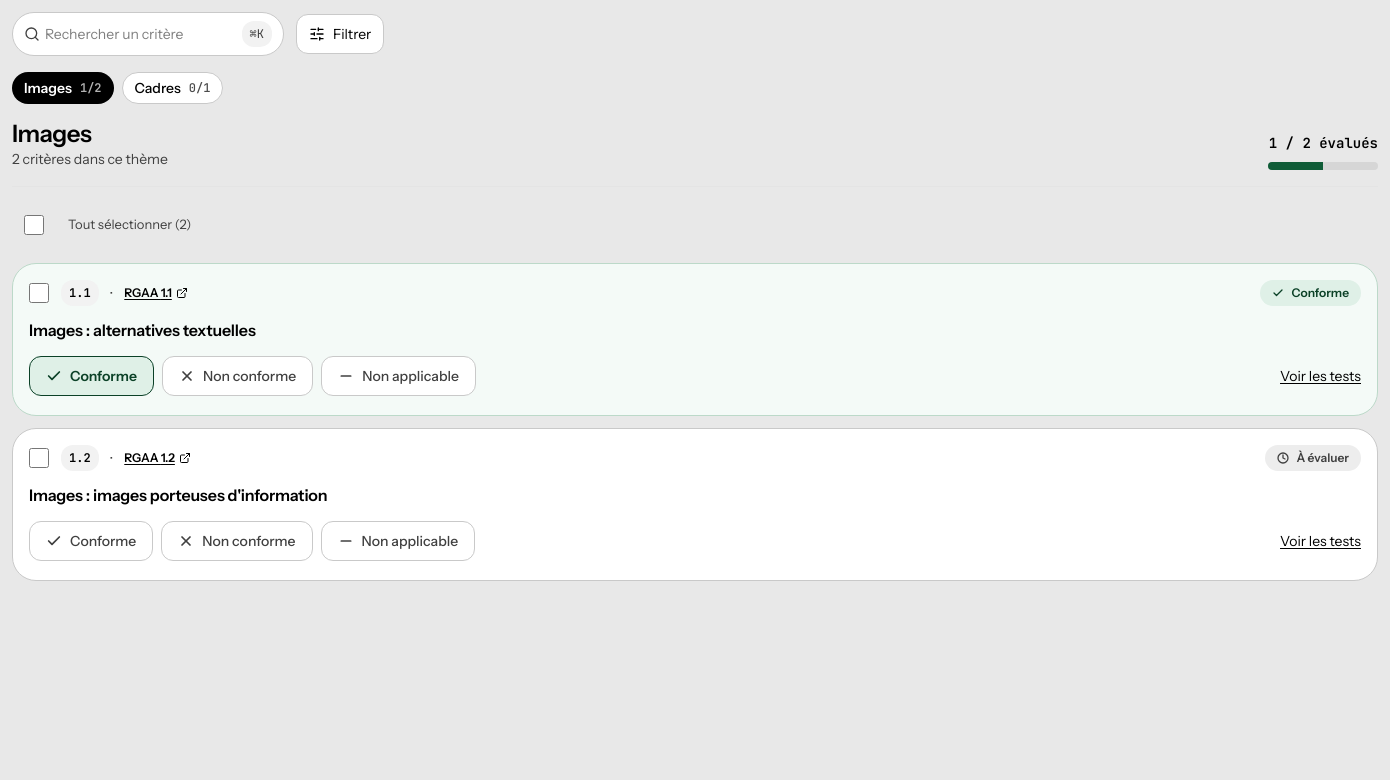
Scenario: AuditScreen › met à jour le cardinal de la barre d'actions quand on sélectionne plusieurs critères
Click the checkbox named "Sélectionner le critère 1.1": (39, 293) [29,283,49,303]
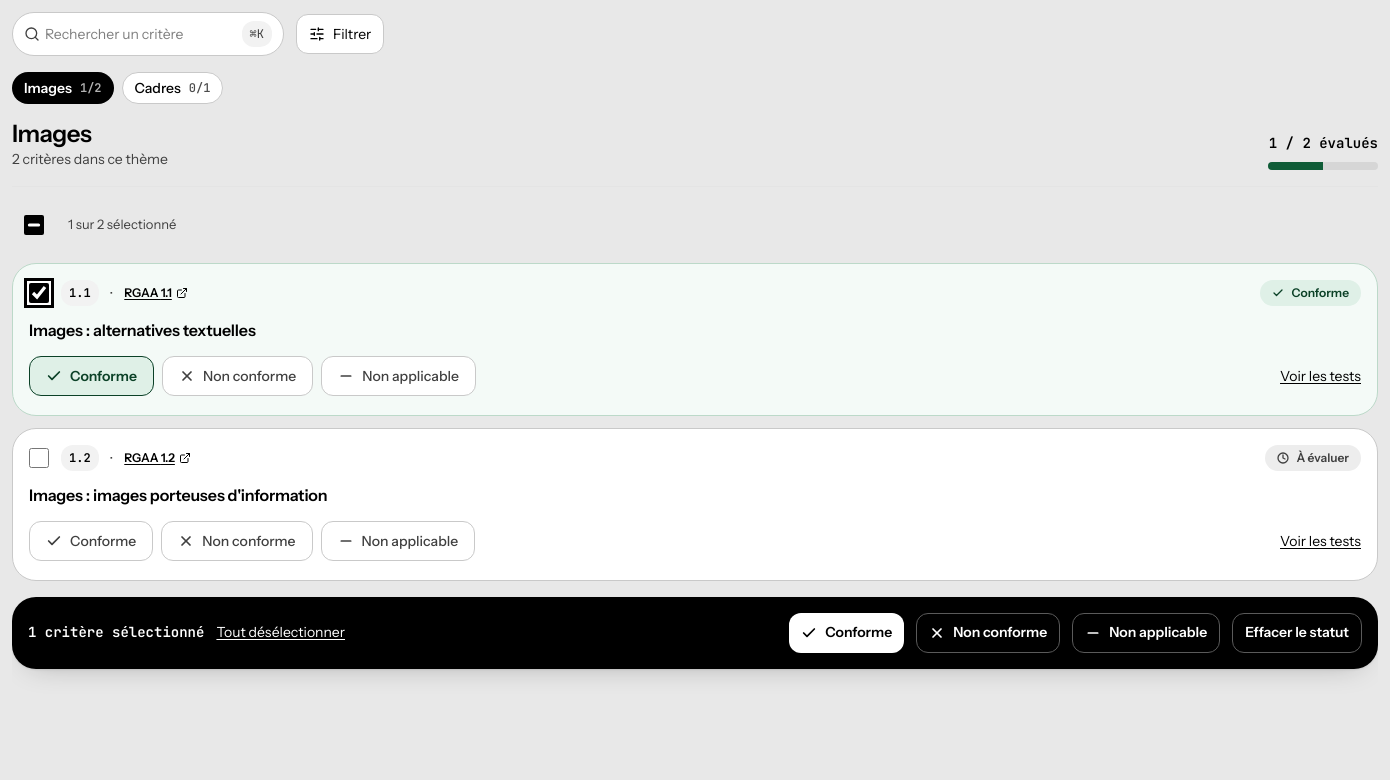
Click the checkbox named "Sélectionner le critère 1.2": (39, 458) [29,448,49,468]
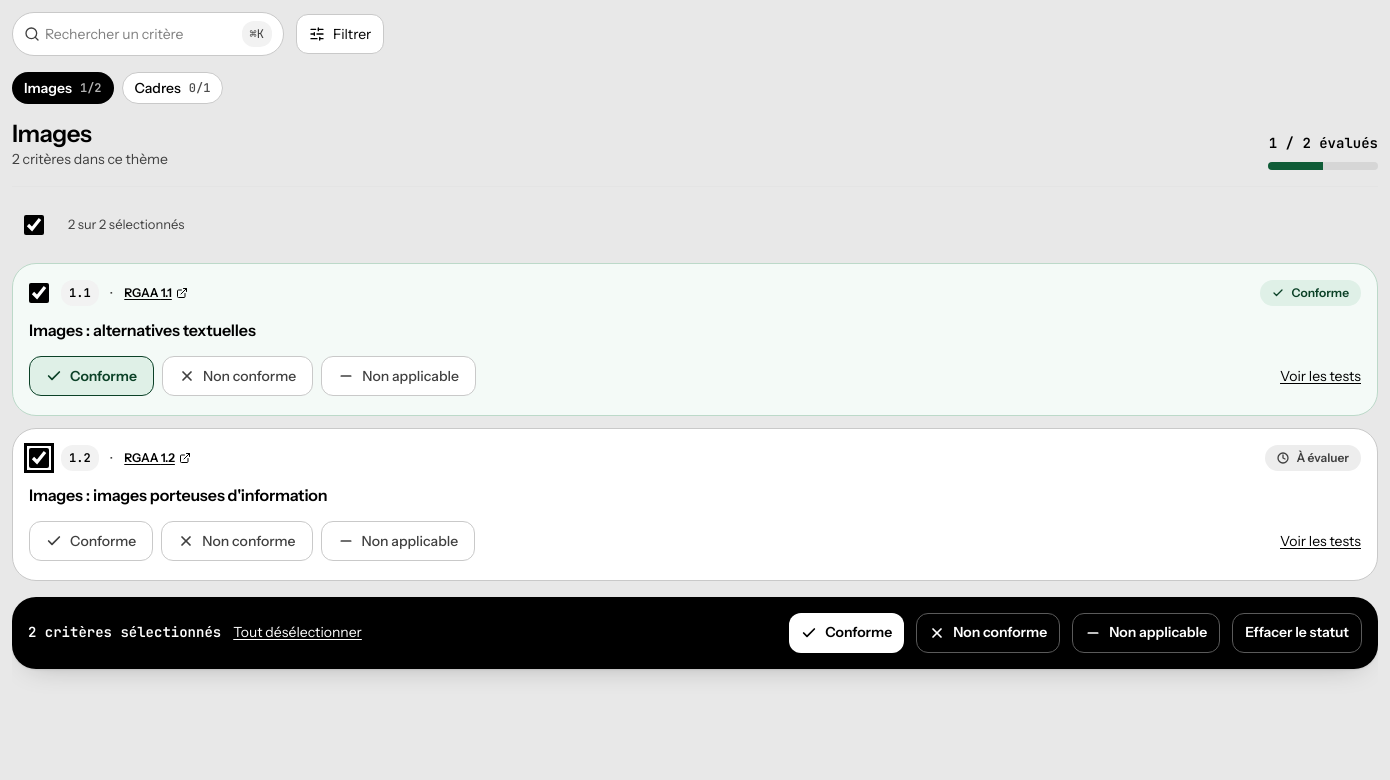
Check: the text "2 critères sélectionnés" is shown, box [28,622,221,643]
